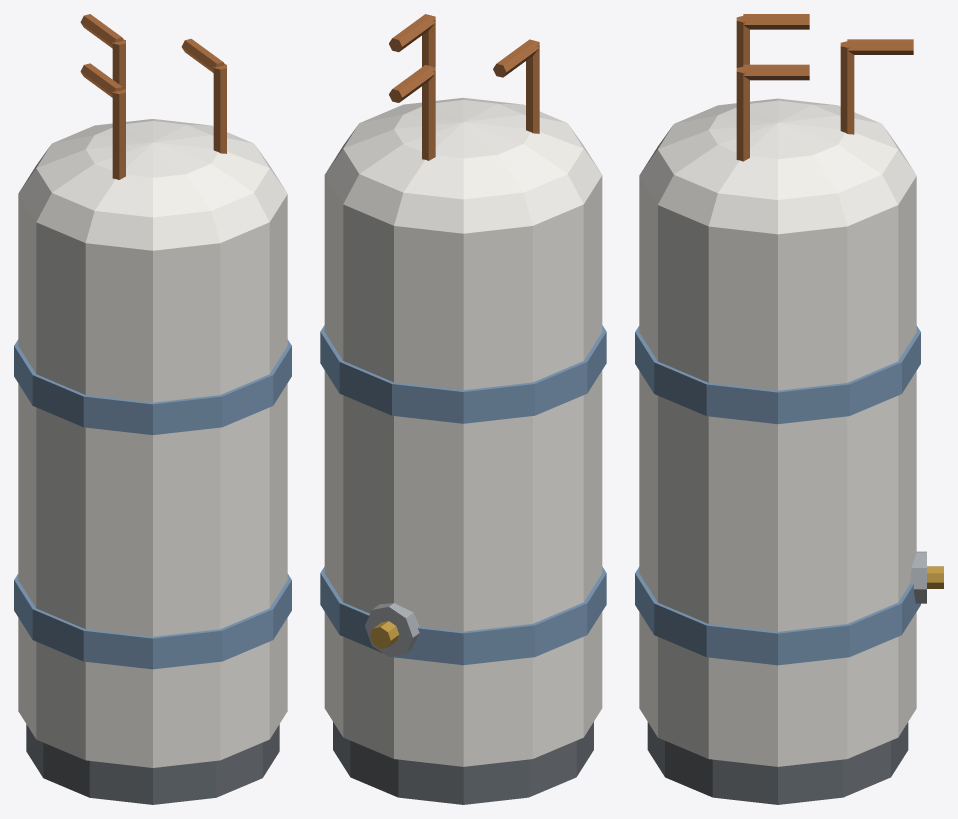
File: SM_LPI_Util_Cylinder_01.fbx
3 views of the same model, side by side, from view 1: azimuth 30°, elevation 25°; view 2: azimuth 150°, elevation 25°; view 3: azimuth 270°, elevation 25° (orthographic). The views are drawn at different scales.
Visible parts, largest first — view 1: SM_LPI_Util_Cylinder_01; view 2: SM_LPI_Util_Cylinder_01; view 3: SM_LPI_Util_Cylinder_01.
Part boxes in pixels (box(x1,y1,x2,y2)): SM_LPI_Util_Cylinder_01: box(14, 14, 291, 804); SM_LPI_Util_Cylinder_01: box(320, 14, 606, 804); SM_LPI_Util_Cylinder_01: box(635, 14, 943, 804).
Bounding box in the file's own units: 0.474 × 1.3 × 0.512.
